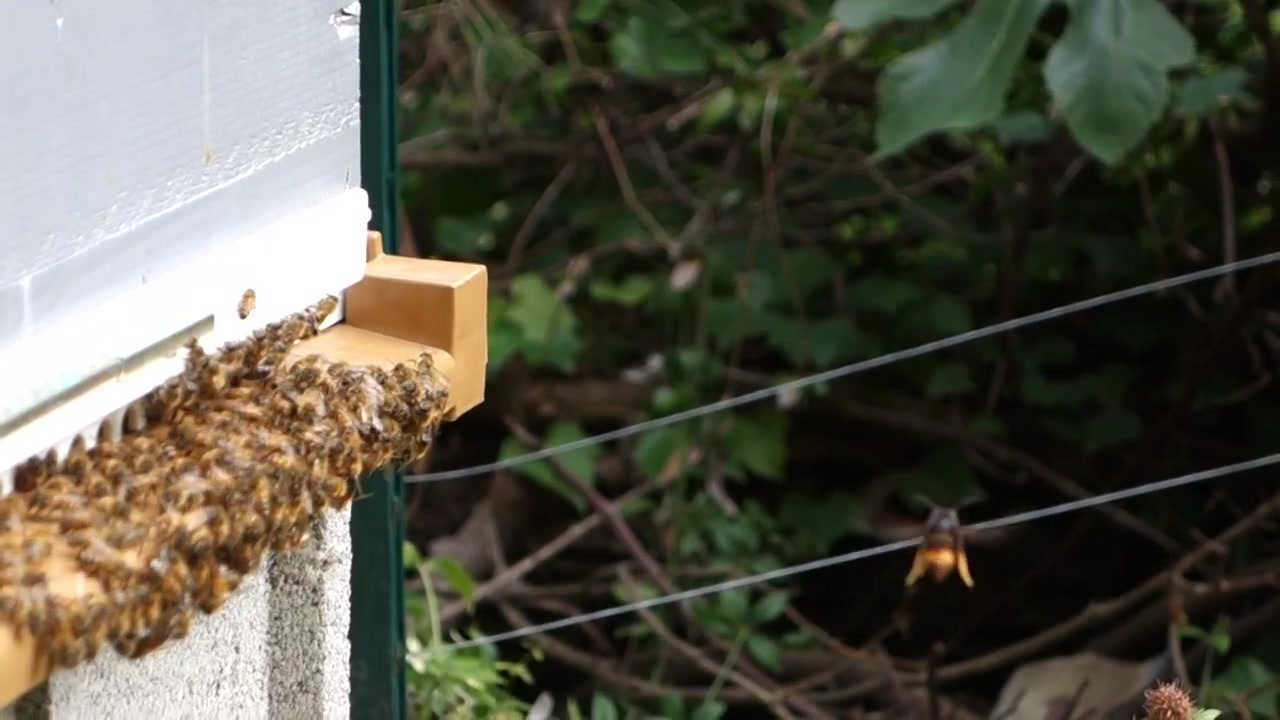bee: (305, 291, 351, 330), (345, 365, 383, 410), (403, 352, 446, 388), (157, 603, 196, 638), (315, 472, 361, 499), (188, 346, 217, 383), (235, 282, 258, 321)
hornet: (900, 486, 994, 592)
